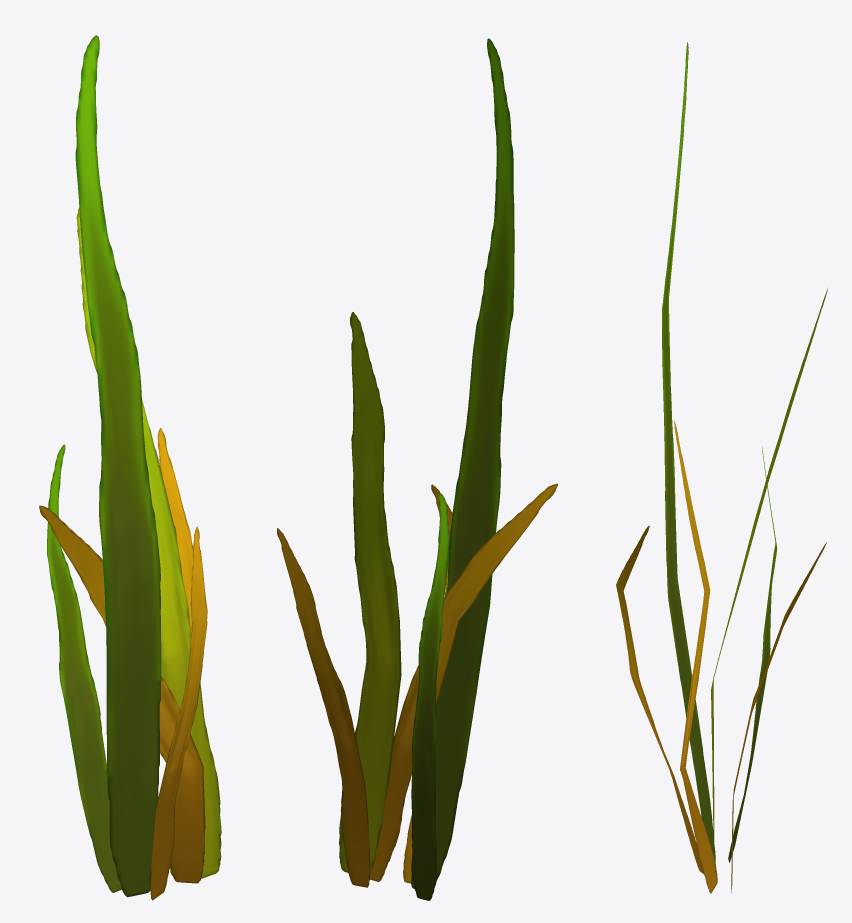
The model's file is 23_Arbustitos_Cruzados.fbx.
The picture shows the model from 3 angles, left to right: view 1: azimuth 30°, elevation 25°; view 2: azimuth 150°, elevation 25°; view 3: azimuth 270°, elevation 25°; orthographic projection. The views are drawn at different scales.
Parts seen in each view (by area): view 1: 23_Arbustitos_Cruzados; view 2: 23_Arbustitos_Cruzados; view 3: 23_Arbustitos_Cruzados.
Part boxes in pixels (x1,y1,x2,y2): 23_Arbustitos_Cruzados: (39, 35, 221, 900); 23_Arbustitos_Cruzados: (277, 38, 557, 900); 23_Arbustitos_Cruzados: (616, 42, 827, 893).
Bounding box in the file's own units: 19.71 × 69.74 × 17.34.
